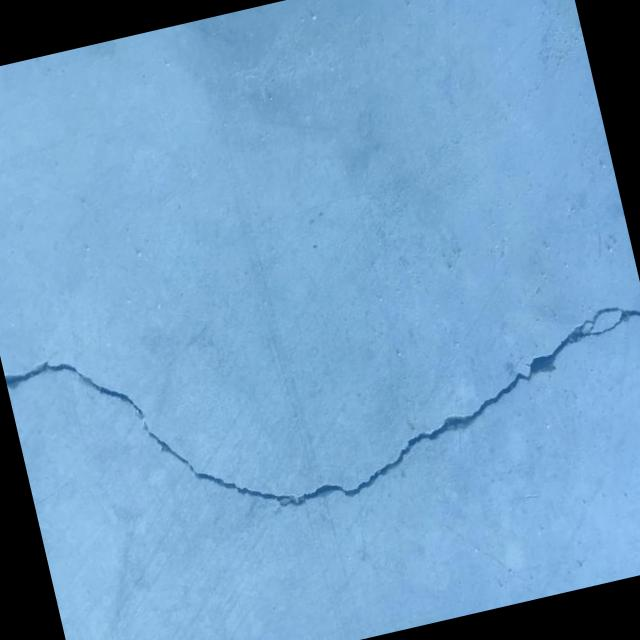crack: (3, 226, 640, 567)
